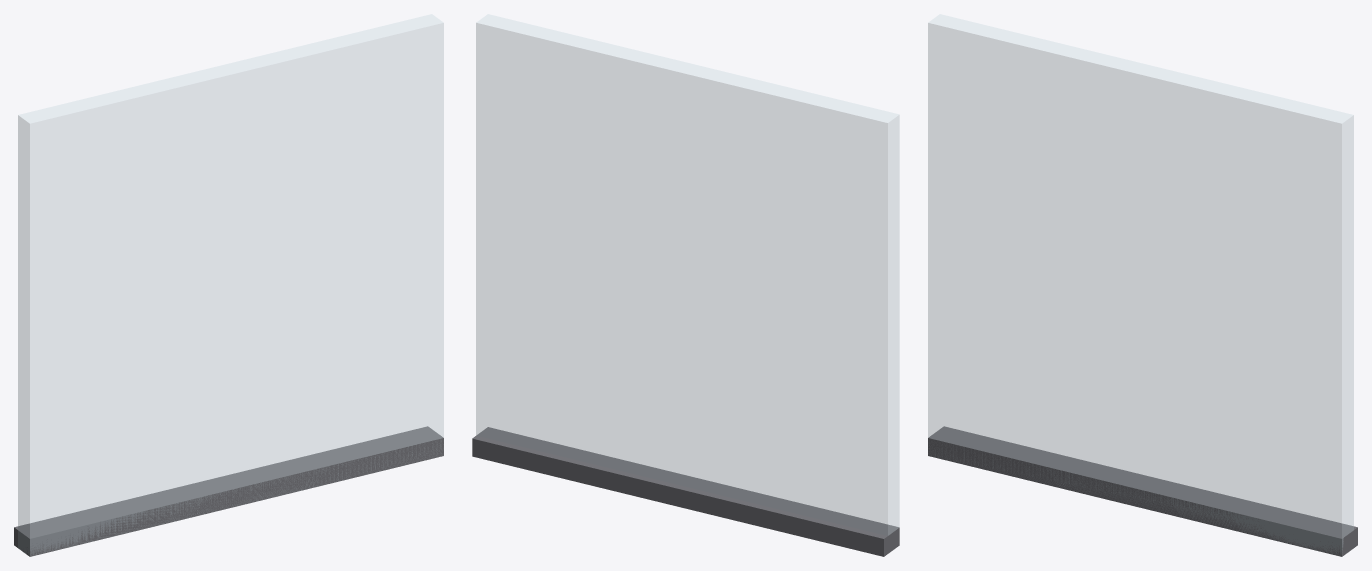
The model's file is win_fixed_150.glb.
The picture shows the model from 3 angles, left to right: view 1: azimuth 30°, elevation 25°; view 2: azimuth 150°, elevation 25°; view 3: azimuth 330°, elevation 25°; orthographic projection.
Parts seen in each view (by area): view 1: win_fixed_150; view 2: win_fixed_150; view 3: win_fixed_150.
Part boxes in pixels (bbox=[...]): win_fixed_150: bbox=[14, 14, 443, 556]; win_fixed_150: bbox=[472, 14, 899, 556]; win_fixed_150: bbox=[928, 14, 1357, 556].
Size of what is drawn, in the model's own units: 1.2 by 1.2 by 0.08.
